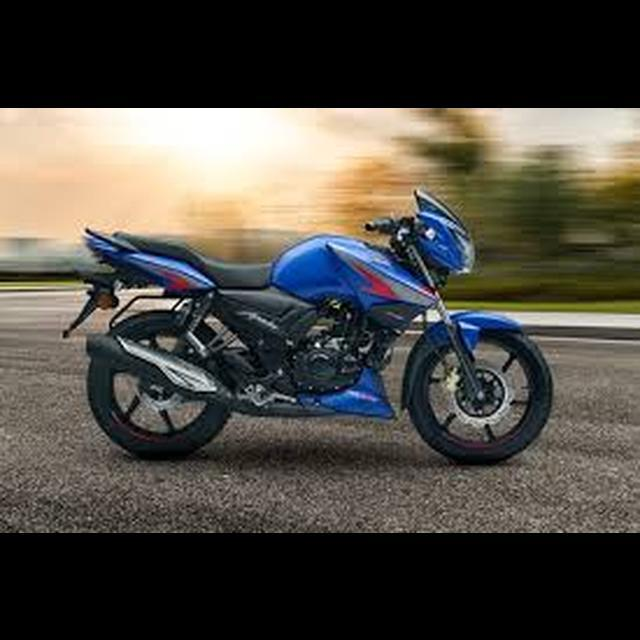motorcycle: (57, 181, 560, 470)
